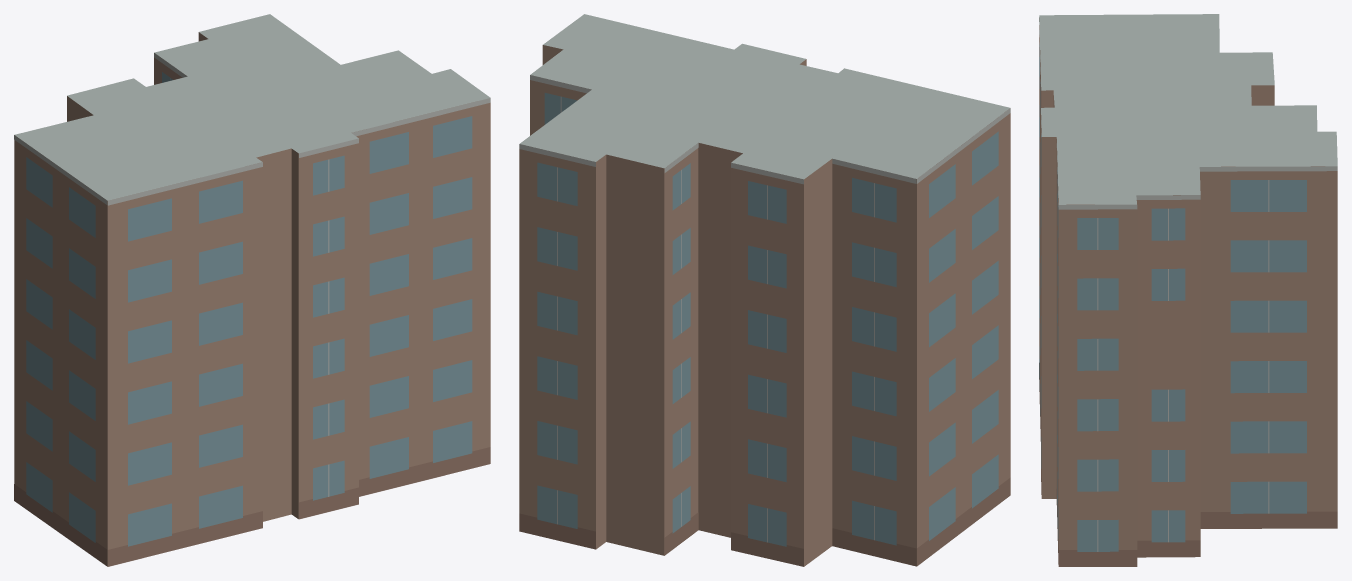
File: survey-upis-32833611.glb
3 renders of one model, left to right at view 1: azimuth 30°, elevation 25°; view 2: azimuth 150°, elevation 25°; view 3: azimuth 270°, elevation 25°, orthographic. The views are drawn at different scales.
Parts seen in each view (by area): view 1: survey-upis-32833611.tmp; view 2: survey-upis-32833611.tmp; view 3: survey-upis-32833611.tmp.
Part boxes in pixels (x1=…): survey-upis-32833611.tmp: x1=14, y1=14, x2=490, y2=566; survey-upis-32833611.tmp: x1=519, y1=14, x2=1010, y2=566; survey-upis-32833611.tmp: x1=1039, y1=14, x2=1337, y2=566.
Size of the model in its own units: 21.03 by 18.6 by 13.91.
